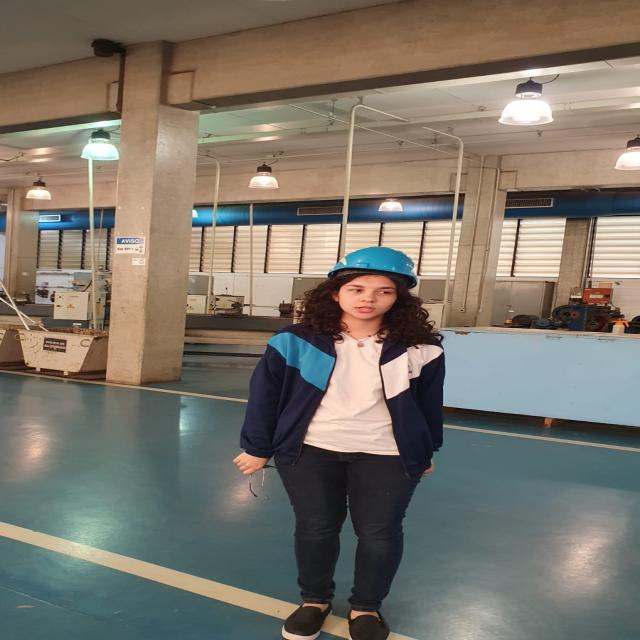sem_oculos: (322, 280, 421, 301)
